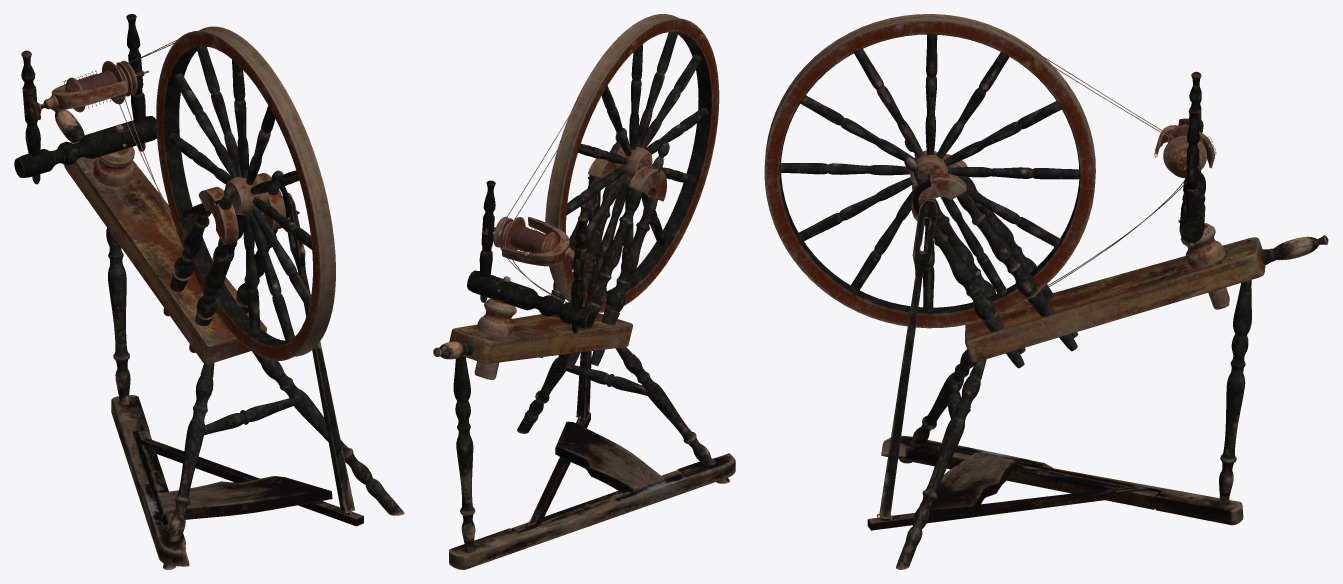
The model's file is design-spinning-wheel-01.glb.
3 renders of one model, left to right at view 1: azimuth 30°, elevation 25°; view 2: azimuth 150°, elevation 25°; view 3: azimuth 270°, elevation 25°, orthographic. The views are drawn at different scales.
Parts seen in each view (by area): view 1: spinning_wheel_01; view 2: spinning_wheel_01; view 3: spinning_wheel_01.
Boxes of the visible parts, x1,y1,x2,y2 form: spinning_wheel_01: [14, 14, 404, 569]; spinning_wheel_01: [433, 14, 735, 569]; spinning_wheel_01: [764, 14, 1328, 569].
Bounding box in the file's own units: 0.4893 × 0.9662 × 1.02.
1 material, 1 textured.
